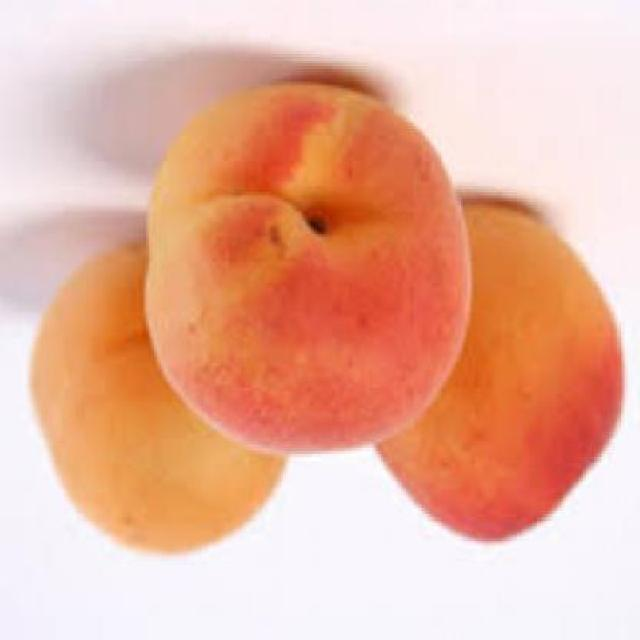BIODEGRADABLE: (150, 78, 476, 454), (372, 199, 625, 543), (34, 242, 291, 555)
